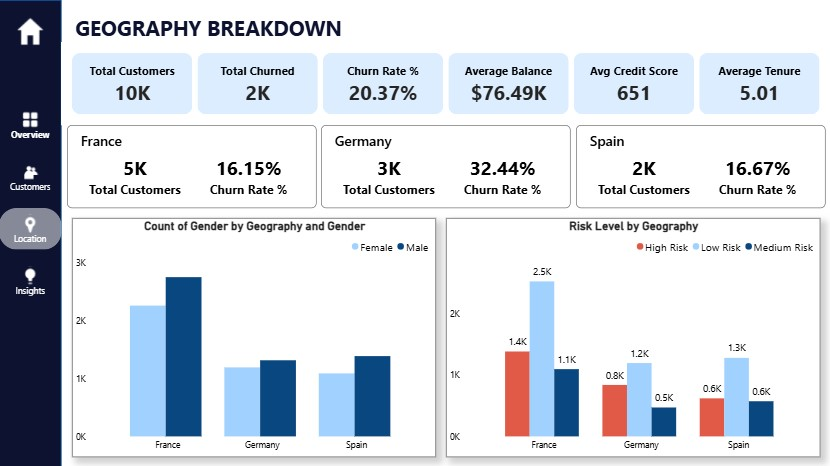

This screenshot's page, from the dashboard's own definition file:
{"tool":"powerbi","page":{"name":"Locations","canvas":[1280,720],"ordinal":2},"visuals":[{"type":"textbox","box":[112,16,512,64],"z":0},{"type":"shape","box":[0,0,96,720],"z":1000},{"type":"actionButton","box":[0,16,96,64],"z":2000},{"type":"actionButton","box":[0,160,96,64],"z":3000},{"type":"actionButton","box":[0,240,96,64],"z":4000},{"type":"actionButton","box":[0,320,96,64],"z":5000},{"type":"actionButton","box":[0,400,96,64],"z":6000},{"type":"cardVisual","fields":{"Data":["customer_churn.Total Customers","customer_churn.Total Churned","customer_churn.Churn Rate %","customer_churn.Avg_Balance","Avg(customer_churn.CreditScore)","Avg(customer_churn.Tenure)"]},"box":[96,64,1184,128],"z":7000},{"type":"cardVisual","fields":{"Rows":["customer_churn.Geography"],"Data":["customer_churn.Total Customers","customer_churn.Churn Rate %"]},"box":[888,192,384,128],"z":8000},{"type":"cardVisual","fields":{"Rows":["customer_churn.Geography"],"Data":["customer_churn.Total Customers","customer_churn.Churn Rate %"]},"box":[496,192,384,128],"z":9000},{"type":"cardVisual","fields":{"Rows":["customer_churn.Geography"],"Data":["customer_churn.Total Customers","customer_churn.Churn Rate %"]},"box":[104,192,384,128],"z":10000},{"type":"clusteredColumnChart","fields":{"Category":["customer_churn.Geography"],"Y":["CountNonNull(customer_churn.Gender)"],"Series":["customer_churn.Gender"]},"box":[112,336,560,368],"z":11000},{"type":"clusteredColumnChart","title":"Risk Level by Geography","fields":{"Category":["customer_churn.Geography"],"Y":["customer_churn.Total Customers"],"Series":["customer_churn.Risk Level"]},"box":[688,336,576,368],"z":12000}]}

Visuals, with their boxes on the page's 1280x720 design canvas (x1, y1, x2, y2). These are canvas units, not pixel positions in the 830x466 screenshot, which may show the page scaled, cropped or inside an application window:
textbox: (x1=112, y1=16, x2=624, y2=80)
shape: (x1=0, y1=0, x2=96, y2=720)
actionButton: (x1=0, y1=16, x2=96, y2=80)
actionButton: (x1=0, y1=160, x2=96, y2=224)
actionButton: (x1=0, y1=240, x2=96, y2=304)
actionButton: (x1=0, y1=320, x2=96, y2=384)
actionButton: (x1=0, y1=400, x2=96, y2=464)
cardVisual - customer_churn.Total Customers x customer_churn.Total Churned: (x1=96, y1=64, x2=1280, y2=192)
cardVisual - customer_churn.Geography x customer_churn.Total Customers: (x1=888, y1=192, x2=1272, y2=320)
cardVisual - customer_churn.Geography x customer_churn.Total Customers: (x1=496, y1=192, x2=880, y2=320)
cardVisual - customer_churn.Geography x customer_churn.Total Customers: (x1=104, y1=192, x2=488, y2=320)
clusteredColumnChart - customer_churn.Geography x CountNonNull(customer_churn.Gender): (x1=112, y1=336, x2=672, y2=704)
"Risk Level by Geography" clusteredColumnChart: (x1=688, y1=336, x2=1264, y2=704)
